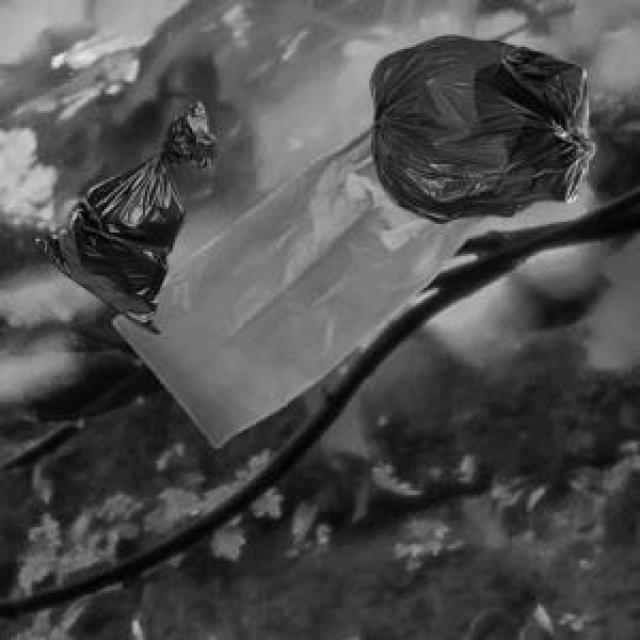miscellaneous trash: (26, 98, 213, 331), (365, 32, 591, 220)
